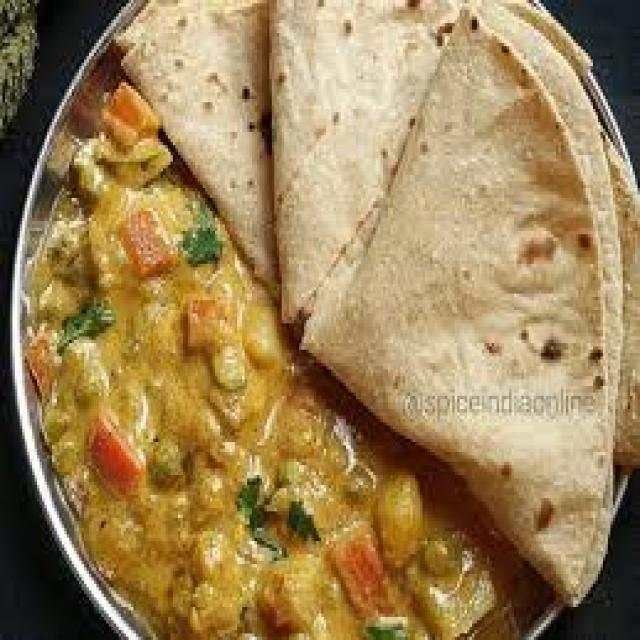chapathi: (173, 20, 640, 356)
